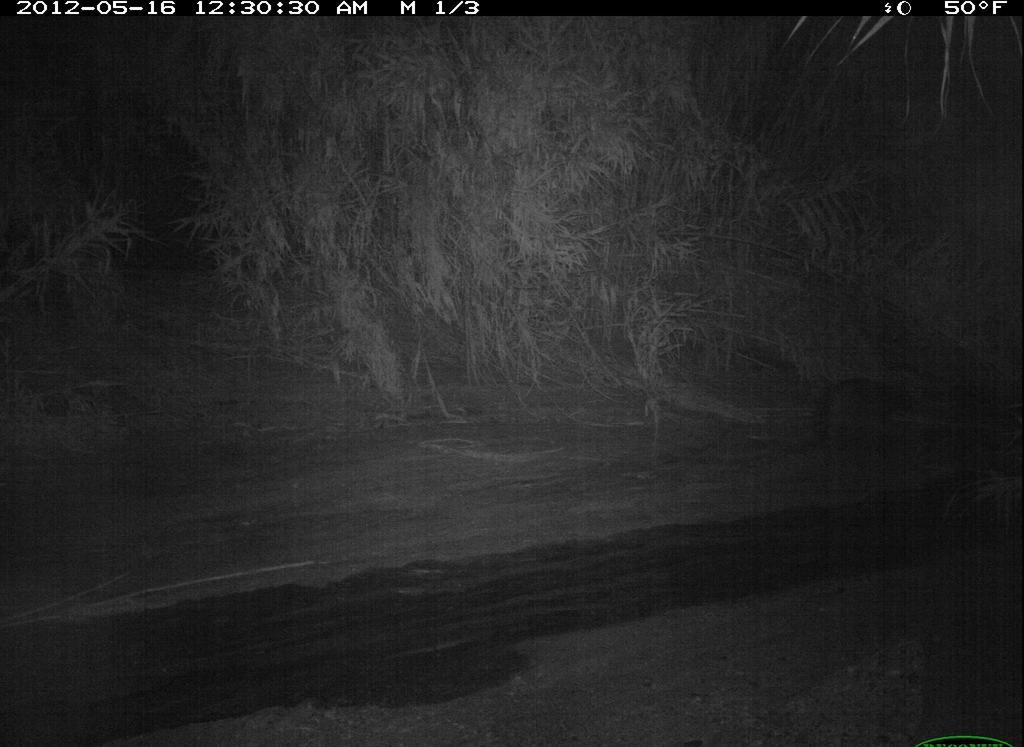raccoon: (783, 363, 913, 459)
